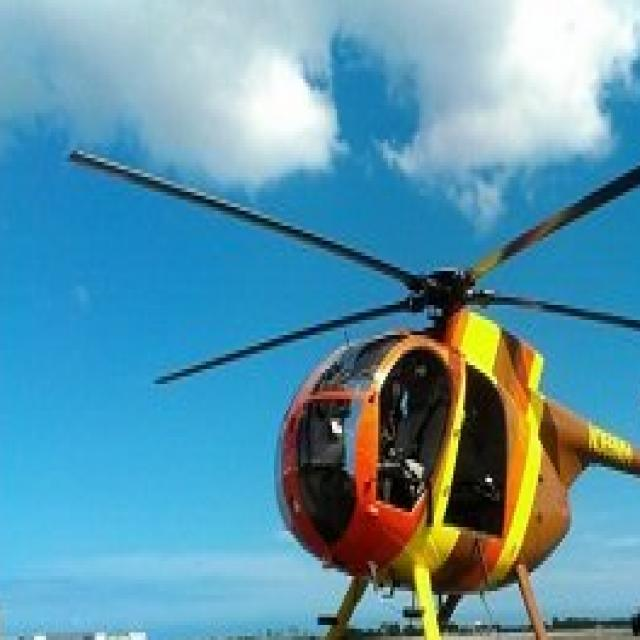helicopter: (129, 84, 640, 640)
